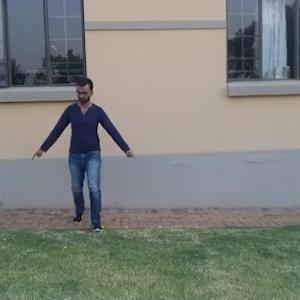land: (30, 75, 138, 238)
